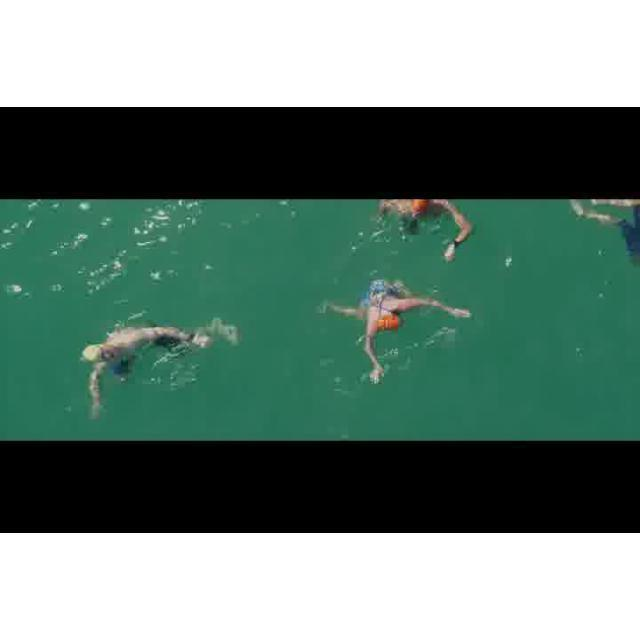human: (328, 275, 480, 388), (80, 313, 222, 425), (364, 199, 478, 270)
